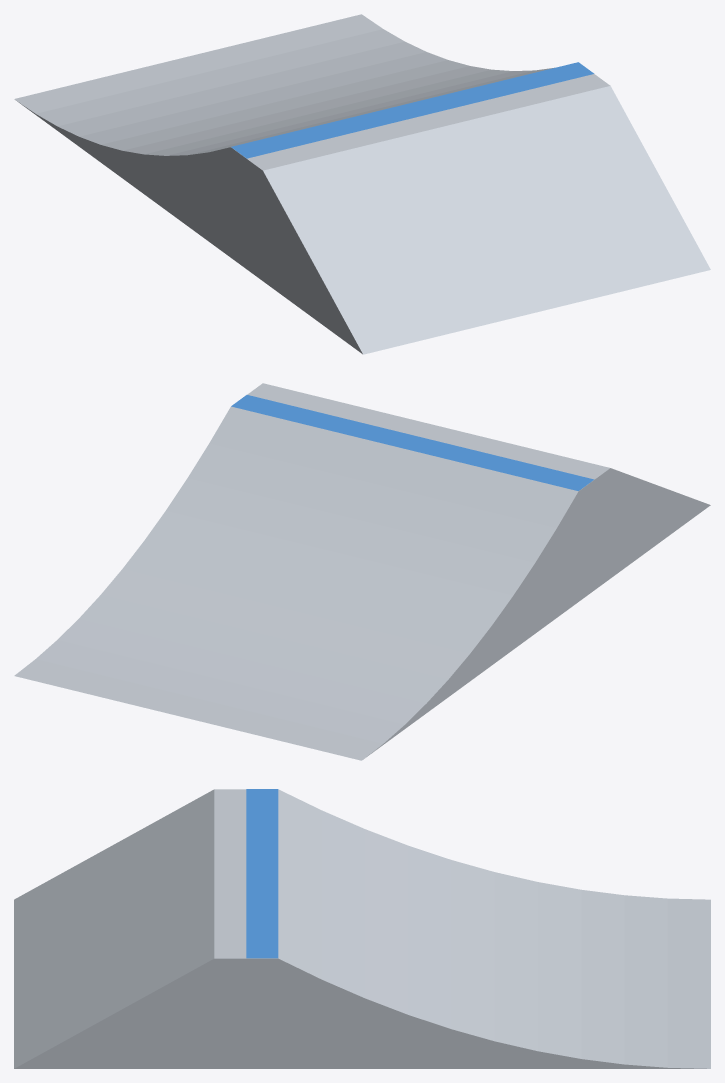
Rendered from KickerModel.glb.
The picture shows the model from 3 angles, top to bottom: view 1: azimuth 30°, elevation 25°; view 2: azimuth 150°, elevation 25°; view 3: azimuth 270°, elevation 25°; orthographic projection.
Parts seen in each view (by area): view 1: KickerModel; view 2: KickerModel; view 3: KickerModel.
Boxes of the visible parts, box(x1,y1,x2,y2) form: KickerModel: box(14, 14, 710, 354); KickerModel: box(14, 383, 710, 760); KickerModel: box(14, 789, 710, 1068).
Size of the model in its own units: 5 by 1.52 by 8.7.
